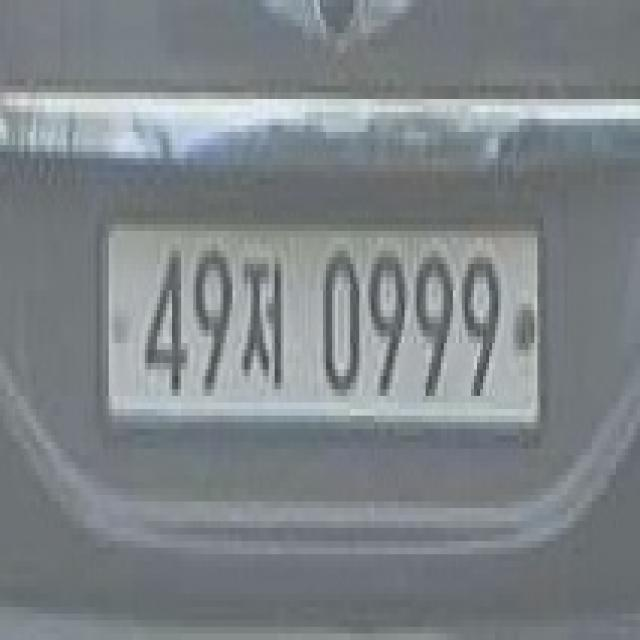0: (319, 239, 362, 404)
4: (144, 238, 190, 407)
9: (461, 248, 504, 412), (192, 241, 234, 401), (415, 246, 455, 409), (368, 242, 406, 411)
jeo: (238, 248, 286, 400)
license_plate: (82, 209, 560, 438)
